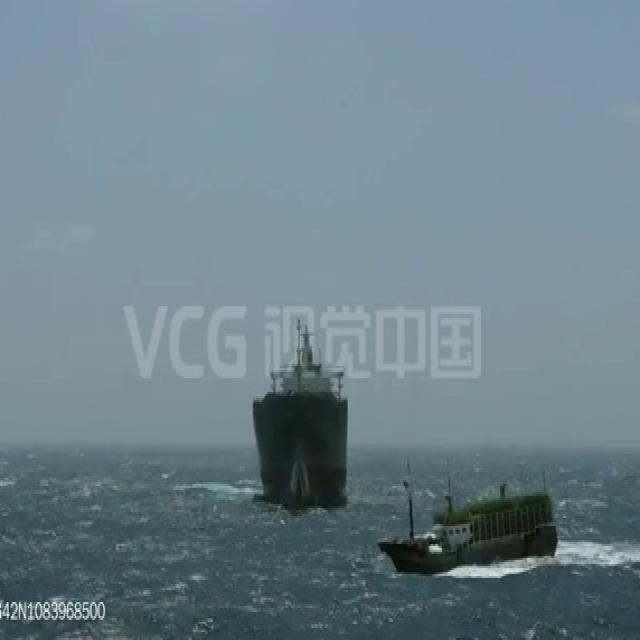cargoship: (249, 316, 350, 507)
fishing boat: (377, 480, 558, 573)
